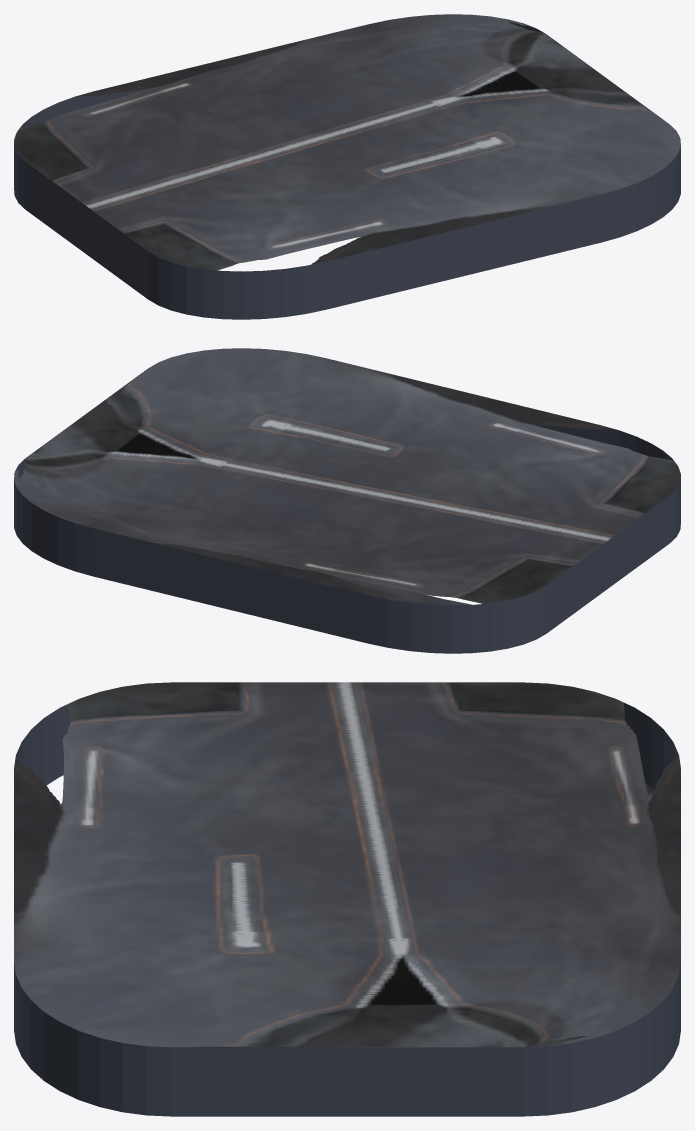
The model's file is Hand_asset_Jacket.fbx.
3 views of the same model, one above another, from view 1: azimuth 30°, elevation 25°; view 2: azimuth 150°, elevation 25°; view 3: azimuth 270°, elevation 25° (orthographic). The views are drawn at different scales.
Visible parts, largest first — view 1: Shirt_folded.020; view 2: Shirt_folded.020; view 3: Shirt_folded.020.
Boxes of the visible parts, x1=… form: Shirt_folded.020: x1=14, y1=14, x2=680, y2=319; Shirt_folded.020: x1=14, y1=348, x2=680, y2=653; Shirt_folded.020: x1=14, y1=682, x2=680, y2=1116.
Size of the model in its own units: 63.62 by 5.63 by 49.15.
Materials: 2 (1 with a texture image).
